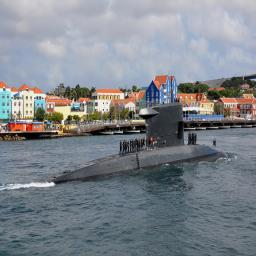submarine: (33, 91, 238, 189)
